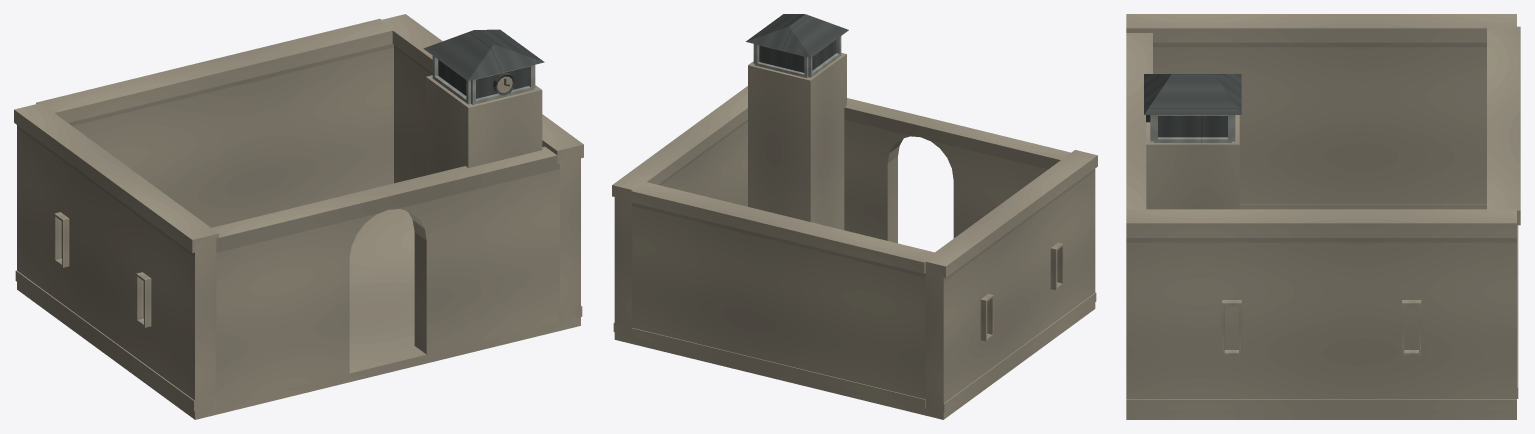
Rendered from oranjestad.glb.
3 views of the same model, side by side, from view 1: azimuth 30°, elevation 25°; view 2: azimuth 150°, elevation 25°; view 3: azimuth 270°, elevation 25° (orthographic). The views are drawn at different scales.
Parts seen in each view (by area): view 1: oranjestad; view 2: oranjestad; view 3: oranjestad.
Boxes of the visible parts, left/top/right/bottom form: oranjestad: left=14, top=14, right=583, bottom=419; oranjestad: left=612, top=14, right=1097, bottom=419; oranjestad: left=1126, top=14, right=1520, bottom=419.
Size of the model in its own units: 5.68 by 3.85 by 4.44.
1 material, 1 textured.
